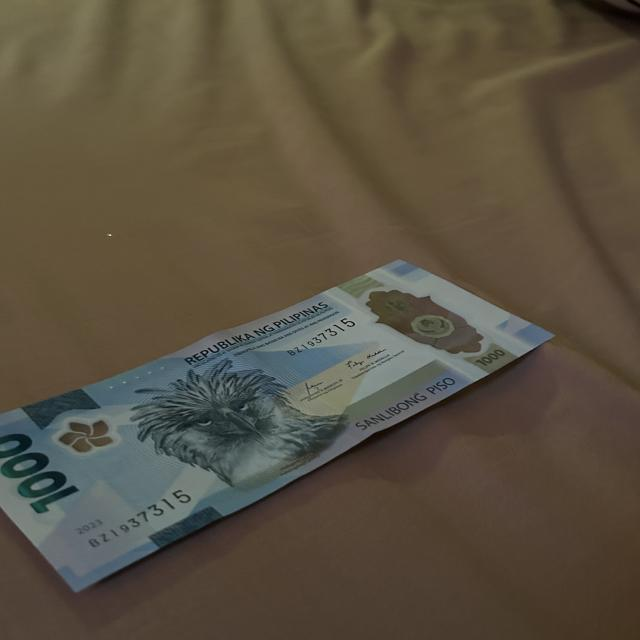clear_window: (360, 289, 485, 355)
eagle: (137, 367, 302, 476)
sampaguita: (60, 412, 126, 459)
